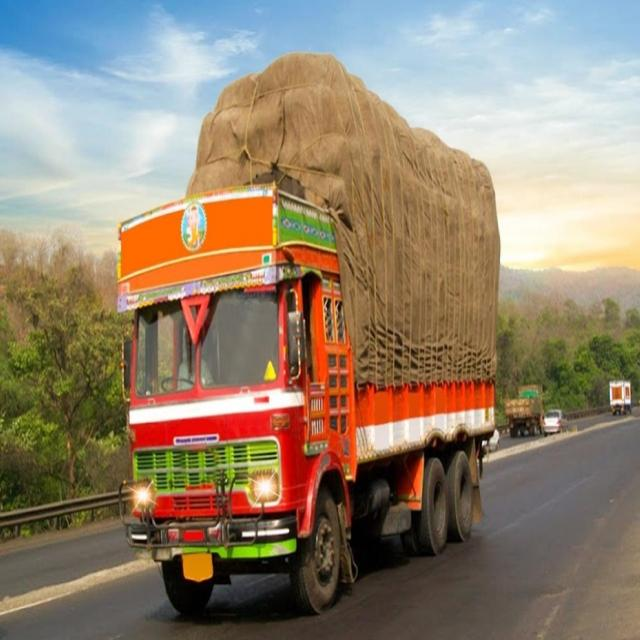truck: (118, 54, 500, 614)
